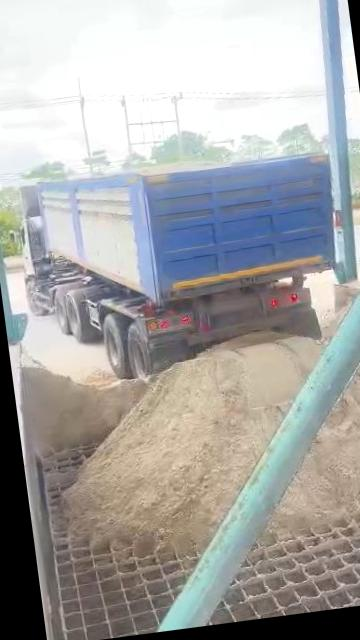sand: (67, 336, 321, 549), (272, 367, 360, 533), (22, 363, 146, 455), (133, 160, 229, 179), (322, 300, 352, 341)
